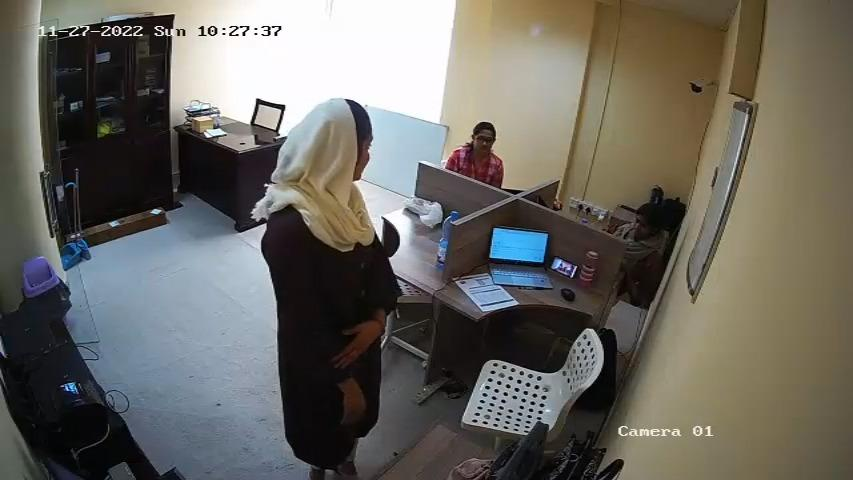no_apron: (270, 192, 395, 314)
